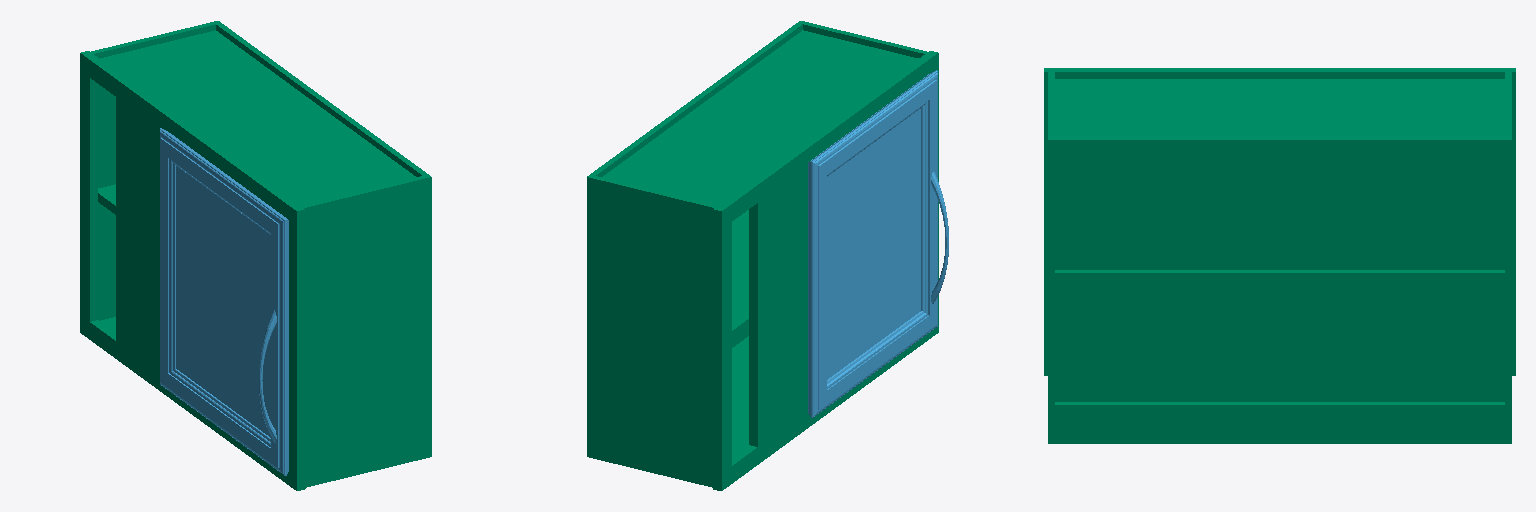
The robot description file, URDF, robot "partnet_29832b9c3d644c744da5feafe6f1c8fc":
<?xml version="1.0" ?>
<robot name="partnet_29832b9c3d644c744da5feafe6f1c8fc">
	<link name="base"/>
	<link name="link_0">
		<visual name="cabinet_door_surface-14">
			<origin xyz="0.14275654733896104 0.5515459775924683 -0.2929106595757924"/>
			<geometry>
				<mesh filename="textured_objs/original-23.obj"/>
			</geometry>
		</visual>
		<visual name="cabinet_door_surface-14">
			<origin xyz="0.14275654733896104 0.5515459775924683 -0.2929106595757924"/>
			<geometry>
				<mesh filename="textured_objs/original-26.obj"/>
			</geometry>
		</visual>
		<visual name="cabinet_door_surface-14">
			<origin xyz="0.14275654733896104 0.5515459775924683 -0.2929106595757924"/>
			<geometry>
				<mesh filename="textured_objs/original-22.obj"/>
			</geometry>
		</visual>
		<visual name="cabinet_door_surface-14">
			<origin xyz="0.14275654733896104 0.5515459775924683 -0.2929106595757924"/>
			<geometry>
				<mesh filename="textured_objs/original-25.obj"/>
			</geometry>
		</visual>
		<visual name="cabinet_door_surface-14">
			<origin xyz="0.14275654733896104 0.5515459775924683 -0.2929106595757924"/>
			<geometry>
				<mesh filename="textured_objs/original-27.obj"/>
			</geometry>
		</visual>
		<visual name="cabinet_door_surface-14">
			<origin xyz="0.14275654733896104 0.5515459775924683 -0.2929106595757924"/>
			<geometry>
				<mesh filename="textured_objs/original-31.obj"/>
			</geometry>
		</visual>
		<visual name="cabinet_door_surface-14">
			<origin xyz="0.14275654733896104 0.5515459775924683 -0.2929106595757924"/>
			<geometry>
				<mesh filename="textured_objs/original-24.obj"/>
			</geometry>
		</visual>
		<visual name="cabinet_door_surface-14">
			<origin xyz="0.14275654733896104 0.5515459775924683 -0.2929106595757924"/>
			<geometry>
				<mesh filename="textured_objs/original-32.obj"/>
			</geometry>
		</visual>
		<visual name="cabinet_door_surface-14">
			<origin xyz="0.14275654733896104 0.5515459775924683 -0.2929106595757924"/>
			<geometry>
				<mesh filename="textured_objs/original-30.obj"/>
			</geometry>
		</visual>
		<visual name="cabinet_door_surface-14">
			<origin xyz="0.14275654733896104 0.5515459775924683 -0.2929106595757924"/>
			<geometry>
				<mesh filename="textured_objs/original-29.obj"/>
			</geometry>
		</visual>
		<visual name="handle-15">
			<origin xyz="0.14275654733896104 0.5515459775924683 -0.2929106595757924"/>
			<geometry>
				<mesh filename="textured_objs/original-33.obj"/>
			</geometry>
		</visual>
		<collision>
			<origin xyz="0.14275654733896104 0.5515459775924683 -0.2929106595757924"/>
			<geometry>
				<mesh filename="textured_objs/original-23.obj"/>
			</geometry>
		</collision>
		<collision>
			<origin xyz="0.14275654733896104 0.5515459775924683 -0.2929106595757924"/>
			<geometry>
				<mesh filename="textured_objs/original-26.obj"/>
			</geometry>
		</collision>
		<collision>
			<origin xyz="0.14275654733896104 0.5515459775924683 -0.2929106595757924"/>
			<geometry>
				<mesh filename="textured_objs/original-22.obj"/>
			</geometry>
		</collision>
		<collision>
			<origin xyz="0.14275654733896104 0.5515459775924683 -0.2929106595757924"/>
			<geometry>
				<mesh filename="textured_objs/original-25.obj"/>
			</geometry>
		</collision>
		<collision>
			<origin xyz="0.14275654733896104 0.5515459775924683 -0.2929106595757924"/>
			<geometry>
				<mesh filename="textured_objs/original-27.obj"/>
			</geometry>
		</collision>
		<collision>
			<origin xyz="0.14275654733896104 0.5515459775924683 -0.2929106595757924"/>
			<geometry>
				<mesh filename="textured_objs/original-31.obj"/>
			</geometry>
		</collision>
		<collision>
			<origin xyz="0.14275654733896104 0.5515459775924683 -0.2929106595757924"/>
			<geometry>
				<mesh filename="textured_objs/original-24.obj"/>
			</geometry>
		</collision>
		<collision>
			<origin xyz="0.14275654733896104 0.5515459775924683 -0.2929106595757924"/>
			<geometry>
				<mesh filename="textured_objs/original-32.obj"/>
			</geometry>
		</collision>
		<collision>
			<origin xyz="0.14275654733896104 0.5515459775924683 -0.2929106595757924"/>
			<geometry>
				<mesh filename="textured_objs/original-30.obj"/>
			</geometry>
		</collision>
		<collision>
			<origin xyz="0.14275654733896104 0.5515459775924683 -0.2929106595757924"/>
			<geometry>
				<mesh filename="textured_objs/original-29.obj"/>
			</geometry>
		</collision>
		<collision>
			<origin xyz="0.14275654733896104 0.5515459775924683 -0.2929106595757924"/>
			<geometry>
				<mesh filename="textured_objs/original-33.obj"/>
			</geometry>
		</collision>
	</link>
	<joint name="joint_0" type="revolute">
		<origin xyz="-0.14275654733896104 -0.5515459775924683 0.2929106595757924"/>
		<axis xyz="0 -1 0"/>
		<child link="link_0"/>
		<parent link="link_1"/>
		<limit lower="0.0" upper="1.5707963267948966"/>
	</joint>
	<link name="link_1">
		<visual name="shelf-3">
			<origin xyz="0 0 0"/>
			<geometry>
				<mesh filename="textured_objs/original-19.obj"/>
			</geometry>
		</visual>
		<visual name="vertical_side_panel-5">
			<origin xyz="0 0 0"/>
			<geometry>
				<mesh filename="textured_objs/original-9.obj"/>
			</geometry>
		</visual>
		<visual name="vertical_side_panel-6">
			<origin xyz="0 0 0"/>
			<geometry>
				<mesh filename="textured_objs/original-10.obj"/>
			</geometry>
		</visual>
		<visual name="back_panel-7">
			<origin xyz="0 0 0"/>
			<geometry>
				<mesh filename="textured_objs/original-8.obj"/>
			</geometry>
		</visual>
		<visual name="back_panel-7">
			<origin xyz="0 0 0"/>
			<geometry>
				<mesh filename="textured_objs/original-34.obj"/>
			</geometry>
		</visual>
		<visual name="back_panel-7">
			<origin xyz="0 0 0"/>
			<geometry>
				<mesh filename="textured_objs/original-7.obj"/>
			</geometry>
		</visual>
		<visual name="bottom_panel-8">
			<origin xyz="0 0 0"/>
			<geometry>
				<mesh filename="textured_objs/original-2.obj"/>
			</geometry>
		</visual>
		<visual name="bottom_panel-8">
			<origin xyz="0 0 0"/>
			<geometry>
				<mesh filename="textured_objs/original-3.obj"/>
			</geometry>
		</visual>
		<visual name="top_panel-9">
			<origin xyz="0 0 0"/>
			<geometry>
				<mesh filename="textured_objs/original-14.obj"/>
			</geometry>
		</visual>
		<visual name="top_panel-9">
			<origin xyz="0 0 0"/>
			<geometry>
				<mesh filename="textured_objs/original-15.obj"/>
			</geometry>
		</visual>
		<visual name="frame_horizontal_bar-10">
			<origin xyz="0 0 0"/>
			<geometry>
				<mesh filename="textured_objs/original-20.obj"/>
			</geometry>
		</visual>
		<visual name="frame_horizontal_bar-11">
			<origin xyz="0 0 0"/>
			<geometry>
				<mesh filename="textured_objs/original-17.obj"/>
			</geometry>
		</visual>
		<visual name="frame_horizontal_bar-12">
			<origin xyz="0 0 0"/>
			<geometry>
				<mesh filename="textured_objs/original-4.obj"/>
			</geometry>
		</visual>
		<visual name="vertical_front_panel-13">
			<origin xyz="0 0 0"/>
			<geometry>
				<mesh filename="textured_objs/original-18.obj"/>
			</geometry>
		</visual>
		<visual name="vertical_front_panel-13">
			<origin xyz="0 0 0"/>
			<geometry>
				<mesh filename="textured_objs/original-5.obj"/>
			</geometry>
		</visual>
		<visual name="vertical_front_panel-13">
			<origin xyz="0 0 0"/>
			<geometry>
				<mesh filename="textured_objs/original-12.obj"/>
			</geometry>
		</visual>
		<visual name="vertical_front_panel-13">
			<origin xyz="0 0 0"/>
			<geometry>
				<mesh filename="textured_objs/original-16.obj"/>
			</geometry>
		</visual>
		<visual name="vertical_front_panel-13">
			<origin xyz="0 0 0"/>
			<geometry>
				<mesh filename="textured_objs/original-11.obj"/>
			</geometry>
		</visual>
		<collision>
			<origin xyz="0 0 0"/>
			<geometry>
				<mesh filename="textured_objs/original-19.obj"/>
			</geometry>
		</collision>
		<collision>
			<origin xyz="0 0 0"/>
			<geometry>
				<mesh filename="textured_objs/original-9.obj"/>
			</geometry>
		</collision>
		<collision>
			<origin xyz="0 0 0"/>
			<geometry>
				<mesh filename="textured_objs/original-10.obj"/>
			</geometry>
		</collision>
		<collision>
			<origin xyz="0 0 0"/>
			<geometry>
				<mesh filename="textured_objs/original-8.obj"/>
			</geometry>
		</collision>
		<collision>
			<origin xyz="0 0 0"/>
			<geometry>
				<mesh filename="textured_objs/original-34.obj"/>
			</geometry>
		</collision>
		<collision>
			<origin xyz="0 0 0"/>
			<geometry>
				<mesh filename="textured_objs/original-7.obj"/>
			</geometry>
		</collision>
		<collision>
			<origin xyz="0 0 0"/>
			<geometry>
				<mesh filename="textured_objs/original-2.obj"/>
			</geometry>
		</collision>
		<collision>
			<origin xyz="0 0 0"/>
			<geometry>
				<mesh filename="textured_objs/original-3.obj"/>
			</geometry>
		</collision>
		<collision>
			<origin xyz="0 0 0"/>
			<geometry>
				<mesh filename="textured_objs/original-14.obj"/>
			</geometry>
		</collision>
		<collision>
			<origin xyz="0 0 0"/>
			<geometry>
				<mesh filename="textured_objs/original-15.obj"/>
			</geometry>
		</collision>
		<collision>
			<origin xyz="0 0 0"/>
			<geometry>
				<mesh filename="textured_objs/original-20.obj"/>
			</geometry>
		</collision>
		<collision>
			<origin xyz="0 0 0"/>
			<geometry>
				<mesh filename="textured_objs/original-17.obj"/>
			</geometry>
		</collision>
		<collision>
			<origin xyz="0 0 0"/>
			<geometry>
				<mesh filename="textured_objs/original-4.obj"/>
			</geometry>
		</collision>
		<collision>
			<origin xyz="0 0 0"/>
			<geometry>
				<mesh filename="textured_objs/original-18.obj"/>
			</geometry>
		</collision>
		<collision>
			<origin xyz="0 0 0"/>
			<geometry>
				<mesh filename="textured_objs/original-5.obj"/>
			</geometry>
		</collision>
		<collision>
			<origin xyz="0 0 0"/>
			<geometry>
				<mesh filename="textured_objs/original-12.obj"/>
			</geometry>
		</collision>
		<collision>
			<origin xyz="0 0 0"/>
			<geometry>
				<mesh filename="textured_objs/original-16.obj"/>
			</geometry>
		</collision>
		<collision>
			<origin xyz="0 0 0"/>
			<geometry>
				<mesh filename="textured_objs/original-11.obj"/>
			</geometry>
		</collision>
	</link>
	<joint name="joint_1" type="fixed">
		<origin rpy="1.570796326794897 0 -1.570796326794897" xyz="0 0 0"/>
		<child link="link_1"/>
		<parent link="base"/>
	</joint>
</robot>

--- What the picture shows (computed from the rendered views, not written in the file) ---
The picture shows the robot from 3 angles, left to right: view 1: azimuth 30°, elevation 25°; view 2: azimuth 150°, elevation 25°; view 3: azimuth 270°, elevation 25°; orthographic projection.
Model partnet_29832b9c3d644c744da5feafe6f1c8fc with 3 links and 2 joints (1 revolute, 1 fixed), rooted at base, posed every joint at zero.
Links seen in each view (by area): view 1: link_1, link_0; view 2: link_1, link_0; view 3: link_1.
Link boxes in pixels (x1=…): link_1: x1=80, y1=21, x2=431, y2=490; link_0: x1=160, y1=128, x2=288, y2=475; link_1: x1=587, y1=21, x2=938, y2=490; link_0: x1=808, y1=70, x2=948, y2=417; link_1: x1=1044, y1=68, x2=1515, y2=443.
Bounding box of the posed robot: 0.6804 × 1.59 × 1.13 m (x, y, z).
29 mesh visuals loaded from 29 distinct referenced files (29 OBJ).
